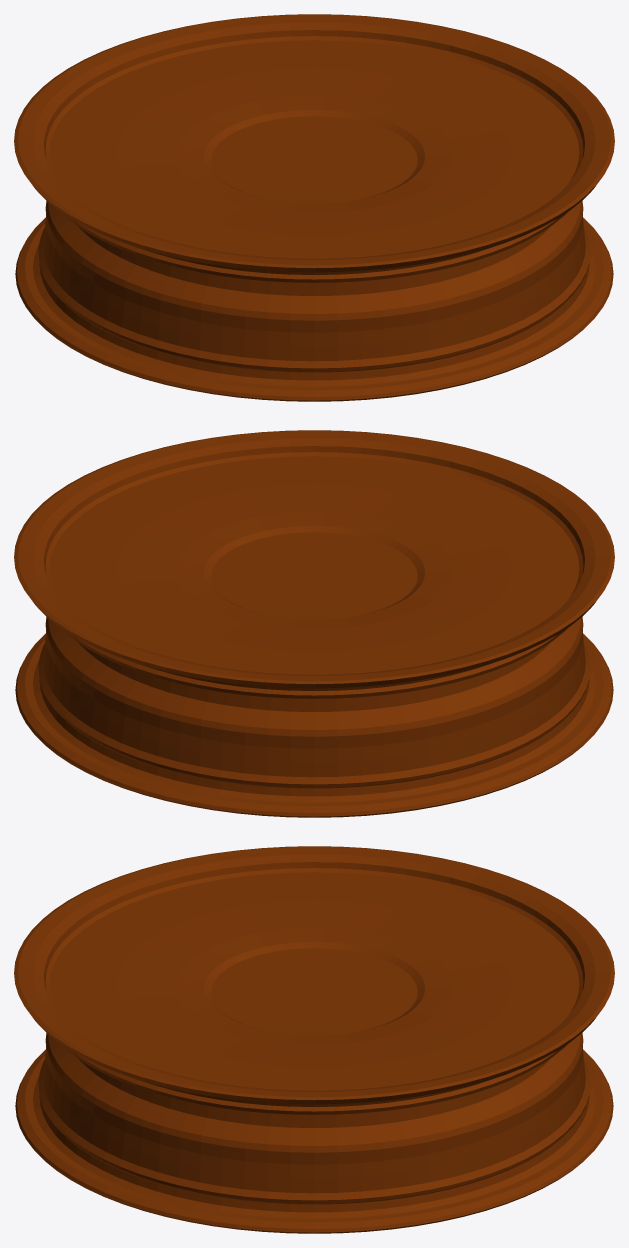
Rendered from U401_Wheel.obj.
3 views of the same model, one above another, from view 1: azimuth 30°, elevation 25°; view 2: azimuth 150°, elevation 25°; view 3: azimuth 270°, elevation 25° (orthographic).
Bounding box in the file's own units: 0.508 × 0.127 × 0.508.
